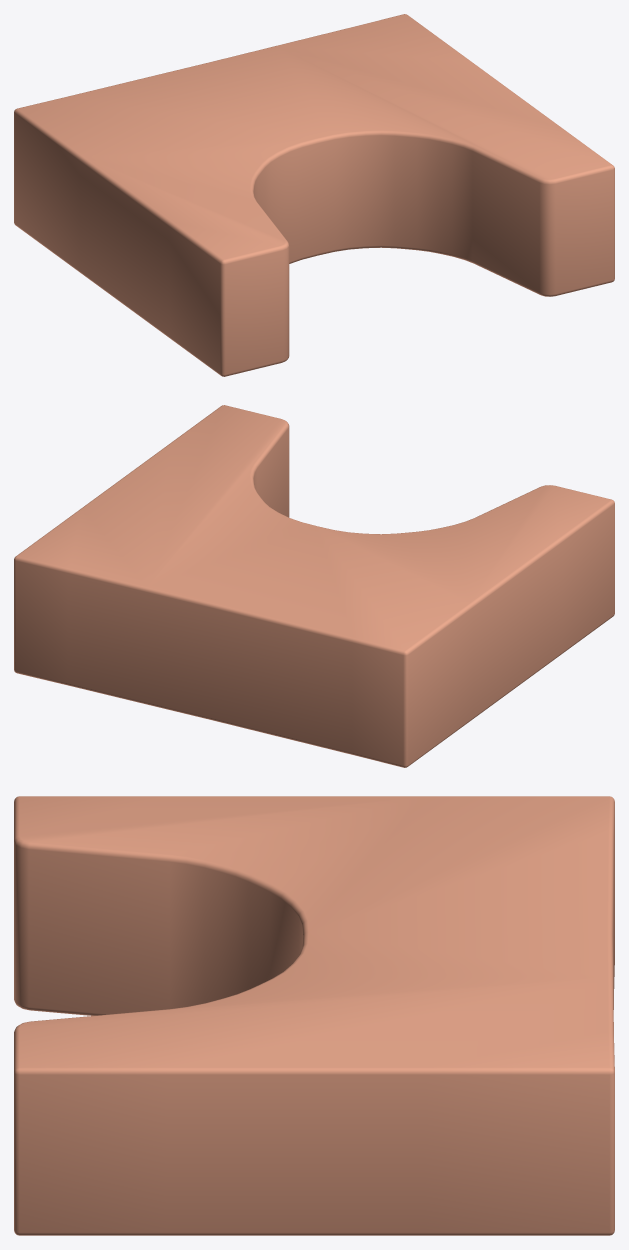
Rendered from island_lv18_1.fbx.
3 views of the same model, one above another, from view 1: azimuth 30°, elevation 25°; view 2: azimuth 150°, elevation 25°; view 3: azimuth 270°, elevation 25° (orthographic). The views are drawn at different scales.
Parts seen in each view (by area): view 1: island_lv18_1; view 2: island_lv18_1; view 3: island_lv18_1.
Part boxes in pixels (left/top/right/bottom): island_lv18_1: left=14, top=14, right=614, bottom=376; island_lv18_1: left=14, top=405, right=614, bottom=767; island_lv18_1: left=14, top=796, right=614, bottom=1235.
Size of the model in its own units: 1761 by 500 by 1624.
